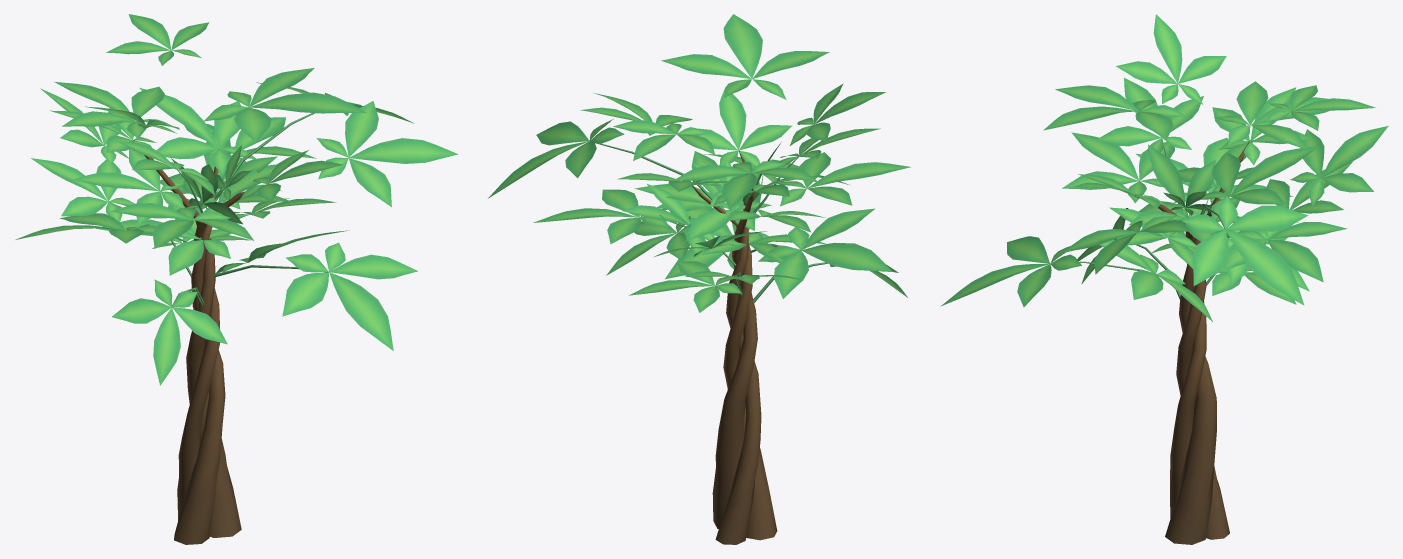
Rendered from MoneyTree.fbx.
3 renders of one model, left to right at view 1: azimuth 30°, elevation 25°; view 2: azimuth 150°, elevation 25°; view 3: azimuth 270°, elevation 25°, orthographic. The views are drawn at different scales.
Parts seen in each view (by area): view 1: MoneyTree; view 2: MoneyTree; view 3: MoneyTree.
Boxes of the visible parts, x1,y1,x2,y2 form: MoneyTree: (15,14,458,544); MoneyTree: (488,14,910,544); MoneyTree: (940,14,1388,544).
Size of the model in its own units: 245 by 285 by 254.
